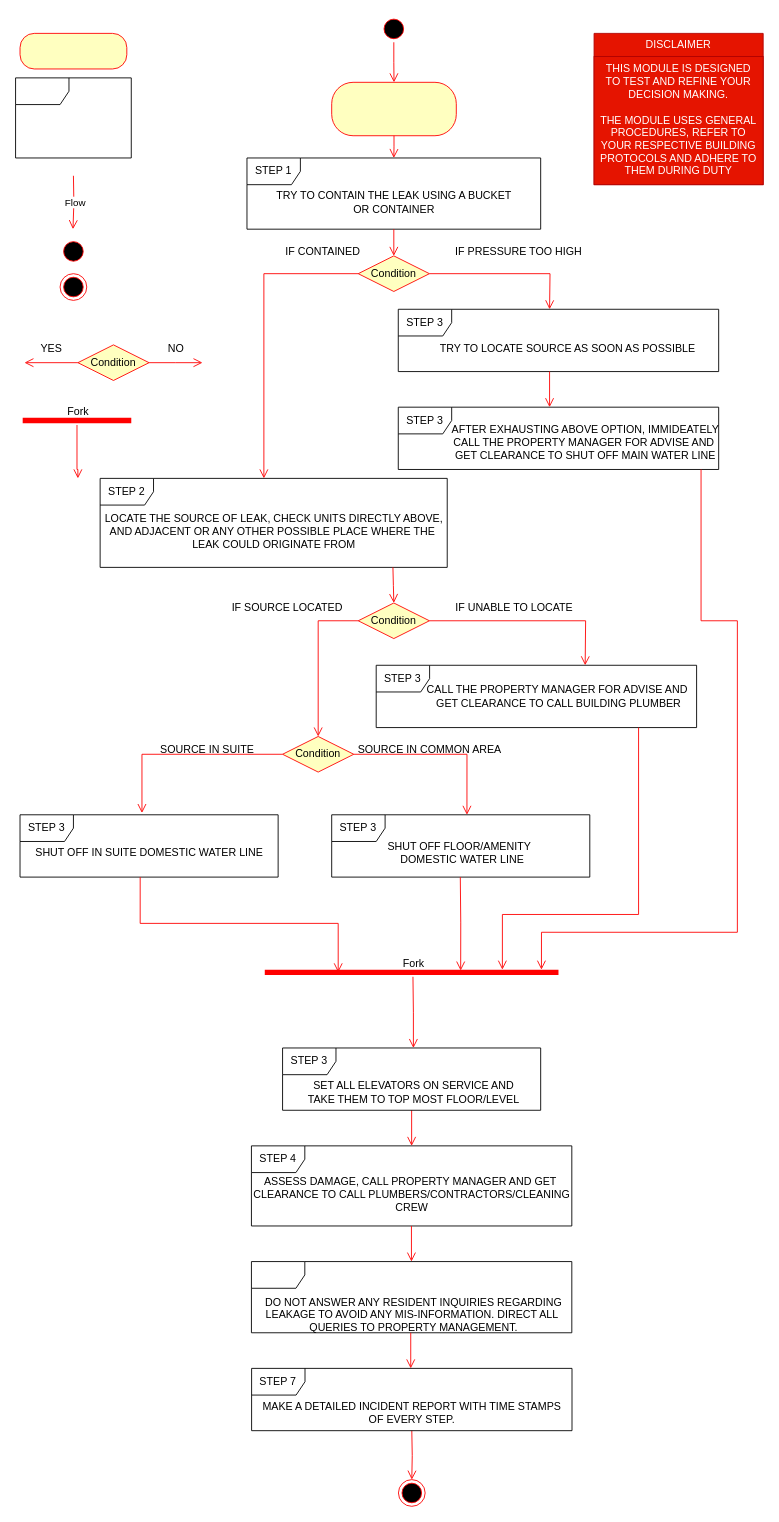
This 779x1522 diagram has some shape labels left out. The shapes that lost their labels are listed below. From the top down, each one's centre as x and y in pixels, then its label:
(x=73, y=50): Situation Context
(x=73, y=117): STEPS
(x=393, y=108): IN SUITE WATER LEAKAGE/FLOOD
(x=73, y=251): Start Point
(x=73, y=286): End Point
(x=411, y=1297): STEP 5
